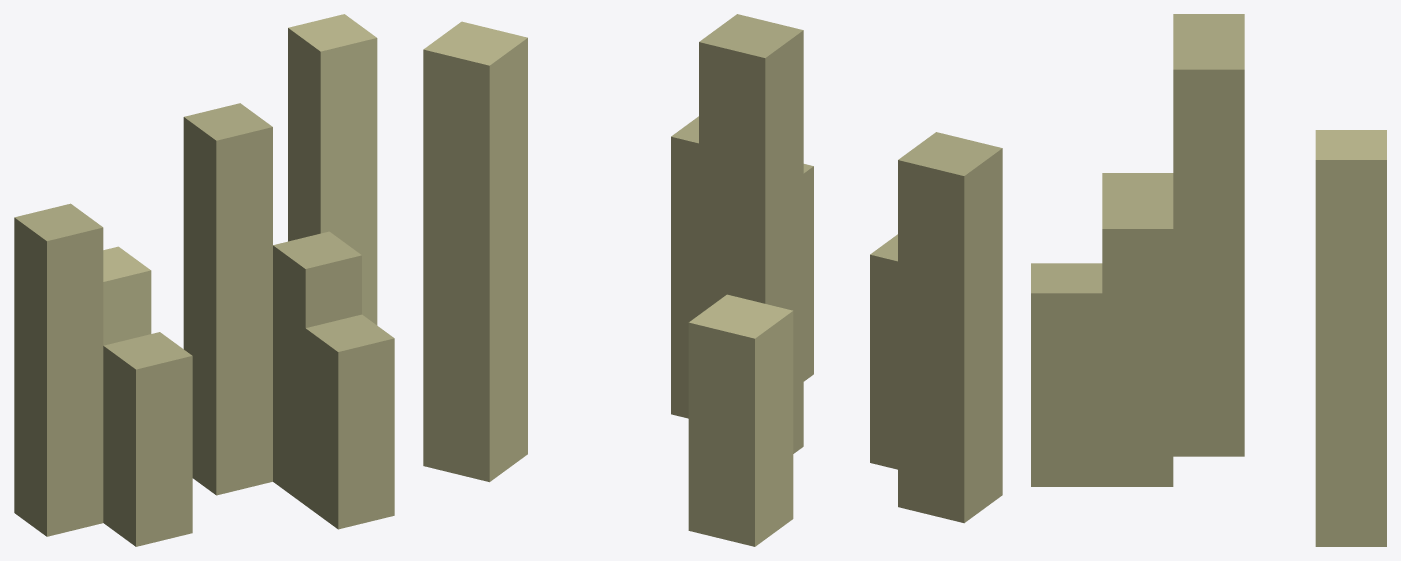
File: barron_02.glb
The picture shows the model from 3 angles, left to right: view 1: azimuth 30°, elevation 25°; view 2: azimuth 150°, elevation 25°; view 3: azimuth 270°, elevation 25°; orthographic projection. The views are drawn at different scales.
Visible parts, largest first — view 1: barron_02; view 2: barron_02; view 3: barron_02.
Part boxes in pixels (x1,y1,x2,y2): barron_02: [14, 14, 394, 546]; barron_02: [423, 14, 1002, 546]; barron_02: [1031, 14, 1386, 546].
Bounding box in the file's own units: 0.7 × 0.6 × 0.5.
